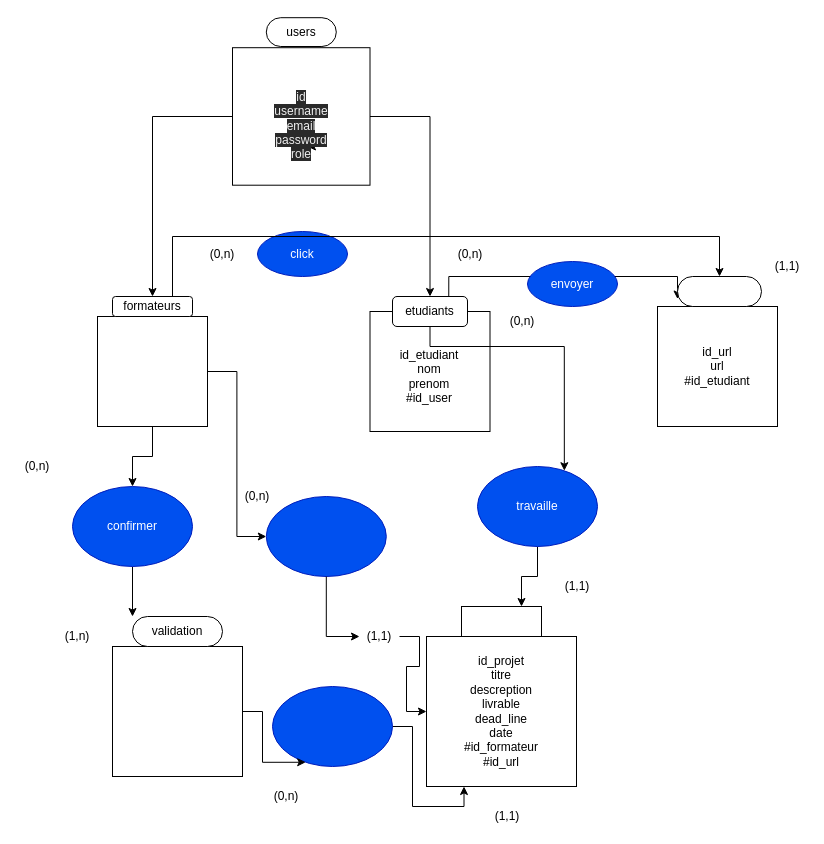
Image size: 824x844. Some labels were removed from this diagram. The centre of each missing label's shape, as x and y in pixels:
"Assigné" goes at point (325, 536).
"id_formateur nom prenom #id_user" goes at point (152, 371).
"id_validation date_validation #id_foormateur #id_projet validet" goes at point (177, 711).
"projets" goes at point (501, 621).
"url" goes at point (719, 291).
"validé" goes at point (332, 726).
